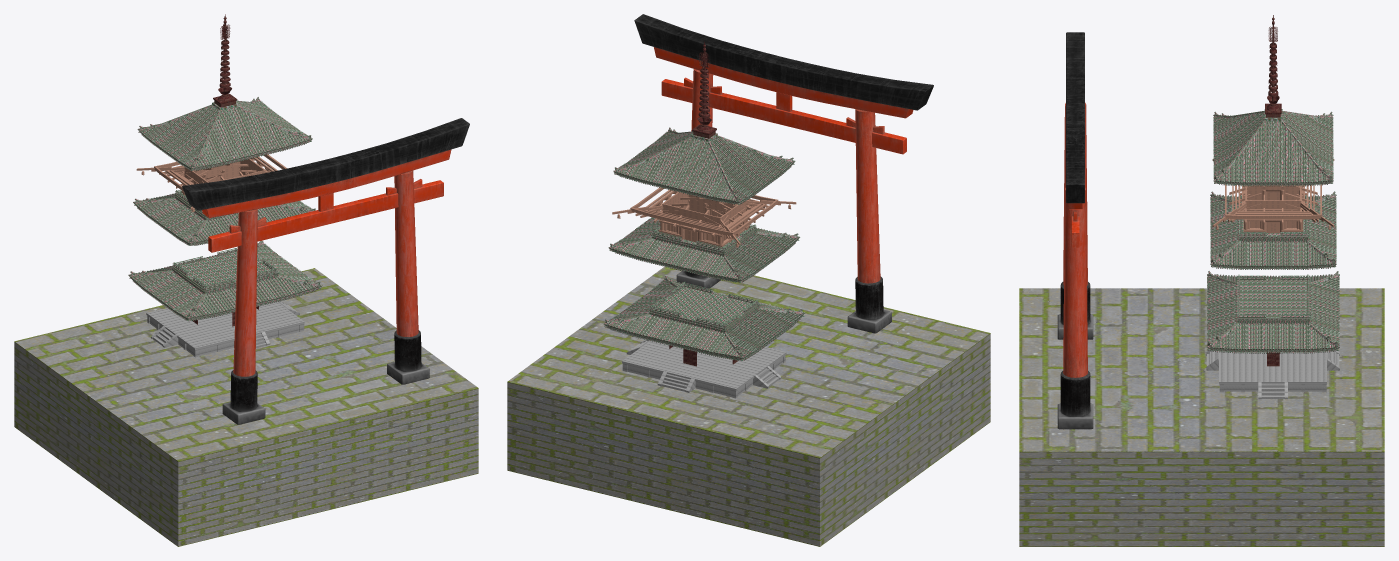
The model's file is Shrine.fbx.
3 renders of one model, left to right at view 1: azimuth 30°, elevation 25°; view 2: azimuth 150°, elevation 25°; view 3: azimuth 270°, elevation 25°, orthographic. The views are drawn at different scales.
Parts seen in each view (by area): view 1: Box001, Torii, Roof1_LOD0, Roof5_LOD0, Base_LOD0, Roof3_LOD0, Wall4_LOD0, Sorin_LOD0; view 2: Box001, Torii, Roof1_LOD0, Roof5_LOD0, Roof3_LOD0, Base_LOD0, Wall4_LOD0, Sorin_LOD0; view 3: Box001, Roof1_LOD0, Torii, Roof5_LOD0, Roof3_LOD0, Base_LOD0, Wall4_LOD0, Sorin_LOD0.
Part boxes in pixels (x1,y1,x2,y2): Box001: (14,268,478,546); Torii: (182,118,469,424); Roof1_LOD0: (128,240,322,321); Roof5_LOD0: (137,97,312,170); Base_LOD0: (146,301,304,357); Roof3_LOD0: (133,190,315,245); Wall4_LOD0: (136,154,286,212); Sorin_LOD0: (213,14,237,107); Box001: (507,266,990,546); Torii: (634,14,933,333); Roof1_LOD0: (603,275,805,360); Roof5_LOD0: (613,127,795,204); Roof3_LOD0: (608,217,800,282); Base_LOD0: (622,340,786,398); Wall4_LOD0: (612,187,796,247); Sorin_LOD0: (692,41,716,138); Box001: (1019,288,1384,546); Roof1_LOD0: (1207,271,1339,353); Torii: (1057,32,1093,429); Roof5_LOD0: (1213,109,1333,186); Roof3_LOD0: (1210,191,1336,269); Base_LOD0: (1206,350,1339,399); Wall4_LOD0: (1212,158,1334,233); Sorin_LOD0: (1265,15,1281,117).
Size of what is drawn, in the model's own units: 164 by 205 by 148.
